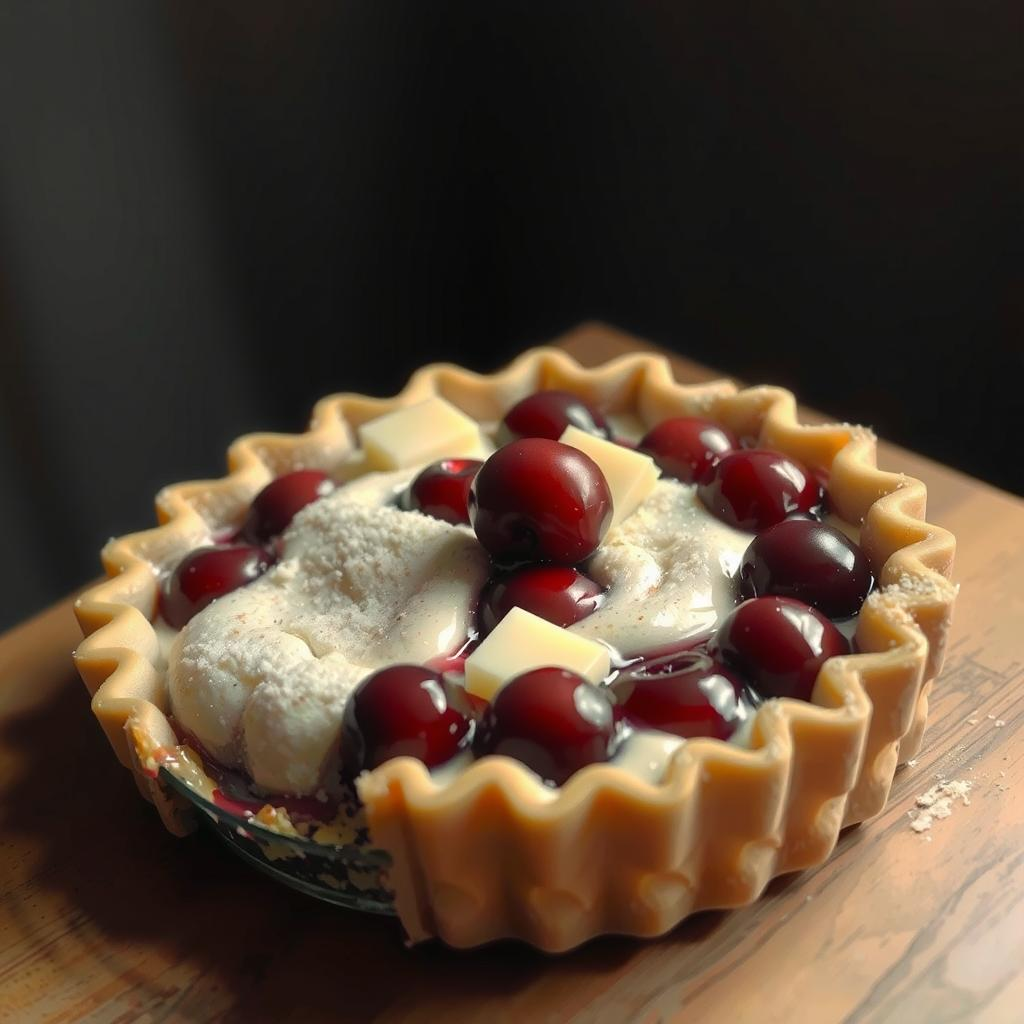pie: (64, 331, 974, 957)
